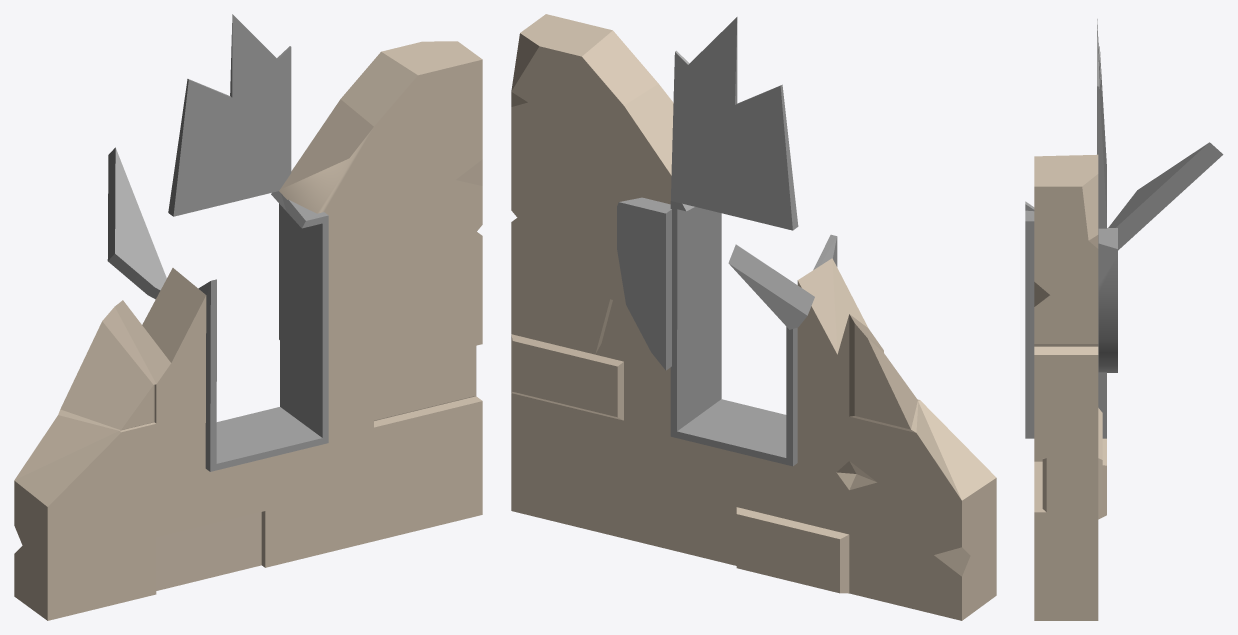
Rendered from Broken_Wall_Window_003.fbx.
3 views of the same model, side by side, from view 1: azimuth 30°, elevation 25°; view 2: azimuth 150°, elevation 25°; view 3: azimuth 270°, elevation 25° (orthographic). The views are drawn at different scales.
Visible parts, largest first — view 1: Broken_Wall_Window_003; view 2: Broken_Wall_Window_003; view 3: Broken_Wall_Window_003.
Part boxes in pixels (x1=…): Broken_Wall_Window_003: x1=14, y1=14, x2=482, y2=620; Broken_Wall_Window_003: x1=511, y1=14, x2=996, y2=620; Broken_Wall_Window_003: x1=1025, y1=19, x2=1223, y2=620.
Bounding box in the file's own units: 3 × 3.49 × 1.24.
